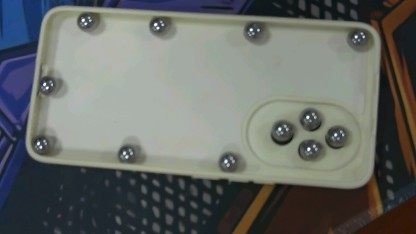ironball: (73, 8, 101, 35), (294, 137, 322, 164), (343, 24, 368, 49), (114, 140, 137, 164), (33, 73, 57, 96), (301, 103, 321, 130), (218, 151, 241, 173), (271, 118, 292, 142), (241, 20, 264, 40), (326, 122, 346, 145), (147, 15, 169, 35), (29, 135, 51, 154)
